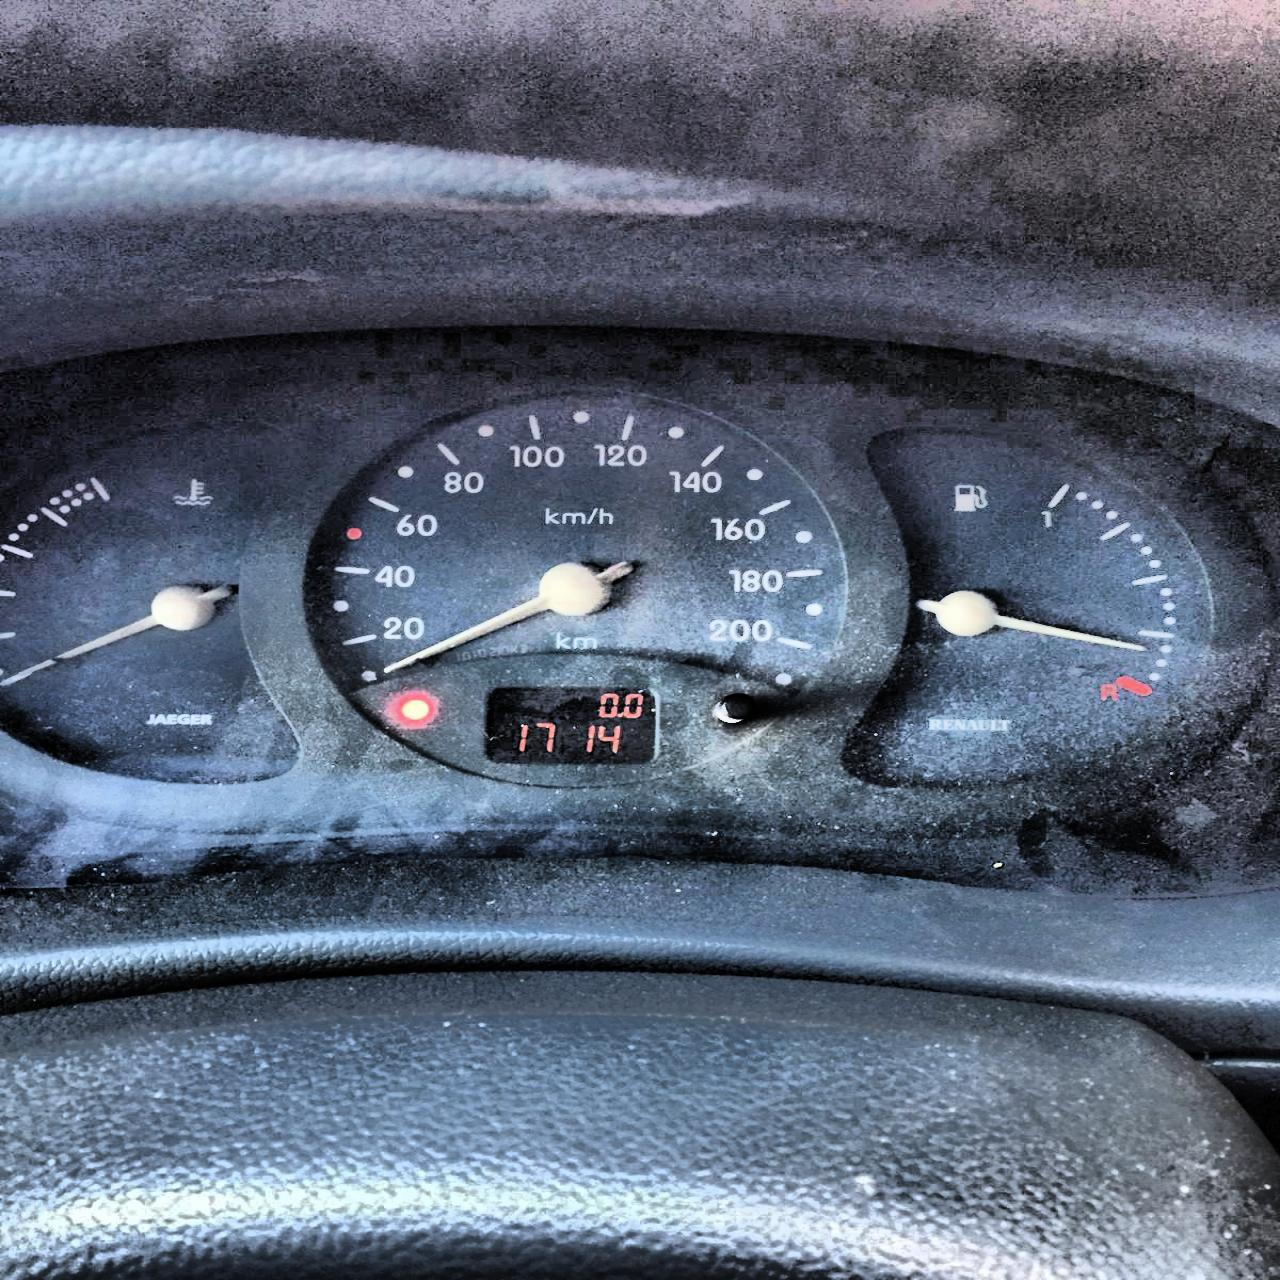-: (617, 712, 621, 717)
0: (621, 694, 642, 716), (599, 693, 618, 717)
1: (517, 723, 527, 751), (585, 726, 595, 753)
4: (598, 724, 621, 754)
7: (533, 722, 556, 753)
odometer: (478, 681, 661, 768)
